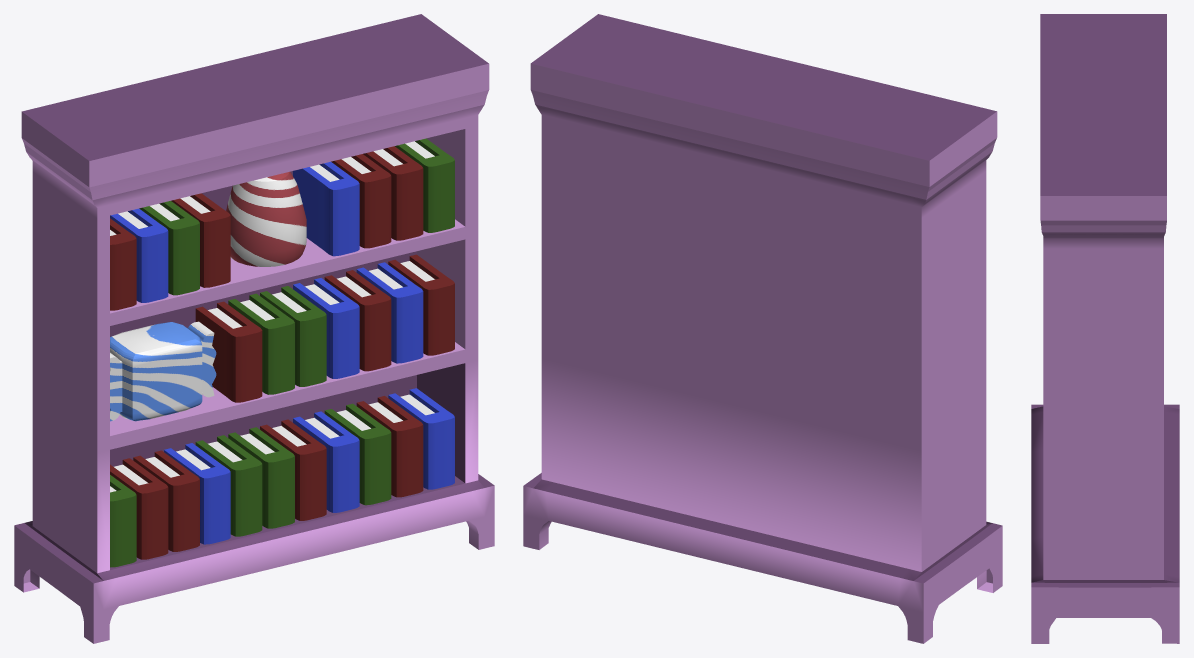
Rendered from estanteria.fbx.
The picture shows the model from 3 angles, left to right: view 1: azimuth 30°, elevation 25°; view 2: azimuth 150°, elevation 25°; view 3: azimuth 270°, elevation 25°; orthographic projection. The views are drawn at different scales.
Parts seen in each view (by area): view 1: Box001, LibrosRojos, LibrosVerdes, LibrosAzules, chuche1, chuche2, HojasLibros; view 2: Box001; view 3: Box001.
Boxes of the visible parts, x1,y1,x2,y2 form: Box001: (14,14,494,643); LibrosRojos: (110,146,454,559); LibrosVerdes: (110,138,454,567); LibrosAzules: (110,161,454,544); chuche1: (110,321,216,421); chuche2: (226,171,306,266); HojasLibros: (110,141,434,492); Box001: (523,14,1002,643); Box001: (1031,14,1179,643).
Size of the model in its own units: 24.88 by 28.41 by 8.53.
Materials: 8 (2 with a texture image).
